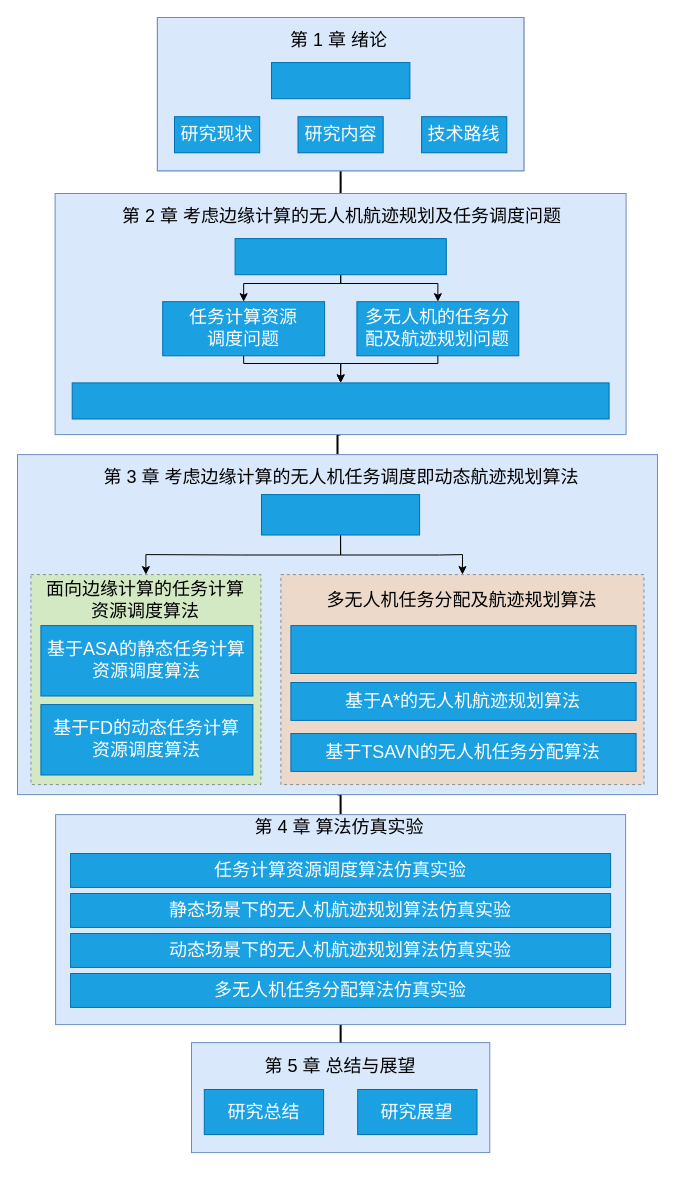
The diagram is 675 pixels wide and 1181 high, and some of its shapes have lost their labels. The centre of each missing label's shape, as x and y in pixels:
交通侦察任务场景及类型: (x=340, y=256)
基于RRT*-Connect的动态场景下的无人机航迹规划算法: (x=463, y=649)
建立数学模型: (x=340, y=400)
研究背景及意义: (x=340, y=80)
算法设计应用流程: (x=340, y=514)
